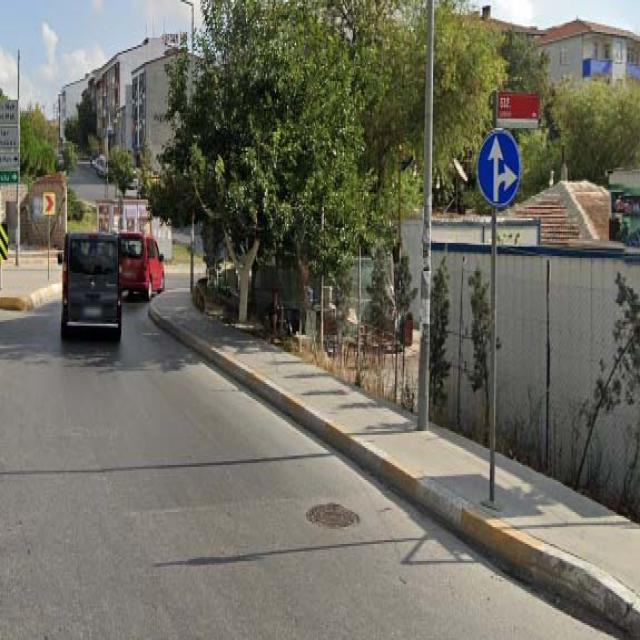ilerisag: (476, 130, 520, 207)
